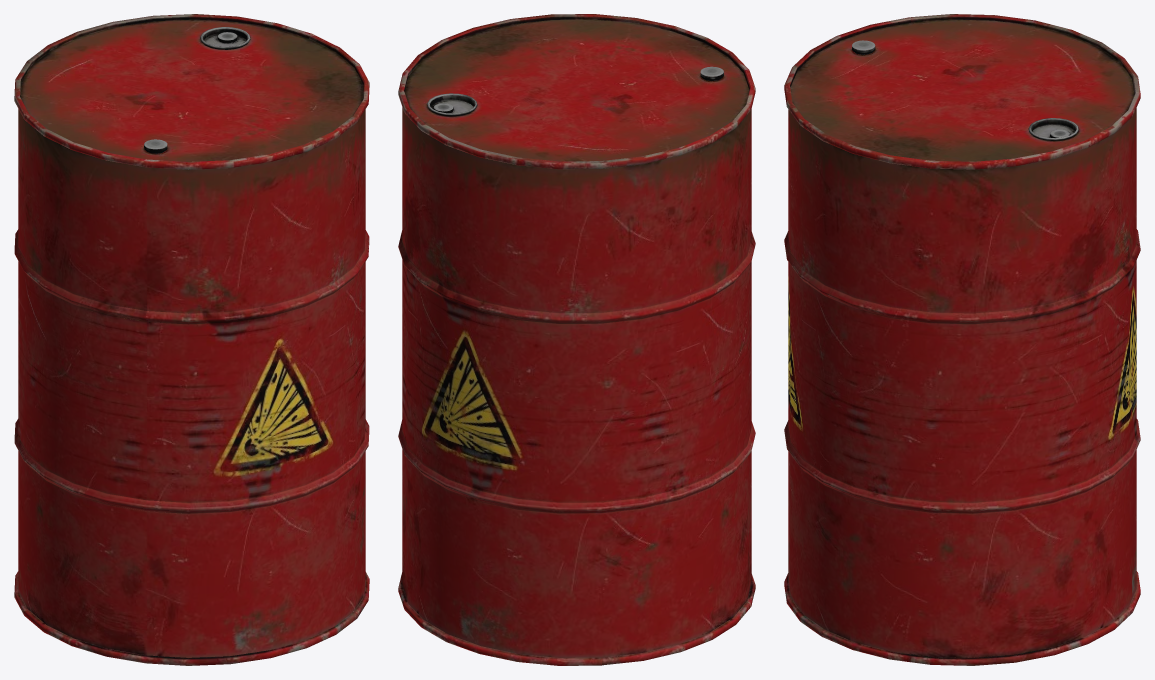
The model's file is Barrel_01.glb.
The picture shows the model from 3 angles, left to right: view 1: azimuth 30°, elevation 25°; view 2: azimuth 150°, elevation 25°; view 3: azimuth 270°, elevation 25°; orthographic projection.
Parts seen in each view (by area): view 1: Barrel_01; view 2: Barrel_01; view 3: Barrel_01.
Boxes of the visible parts, <box> form: Barrel_01: <box>14,14,369,665</box>; Barrel_01: <box>398,14,755,665</box>; Barrel_01: <box>784,14,1140,665</box>.
Size of the model in its own units: 0.563 by 0.88 by 0.563.
1 material, 1 textured.
